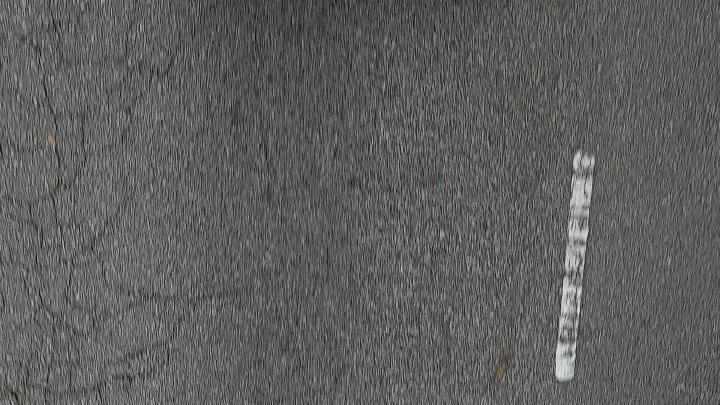Crack: (41, 52, 77, 220), (47, 54, 71, 212), (62, 362, 172, 386), (67, 366, 165, 381)
Lane: (554, 152, 599, 384), (555, 151, 594, 380)
